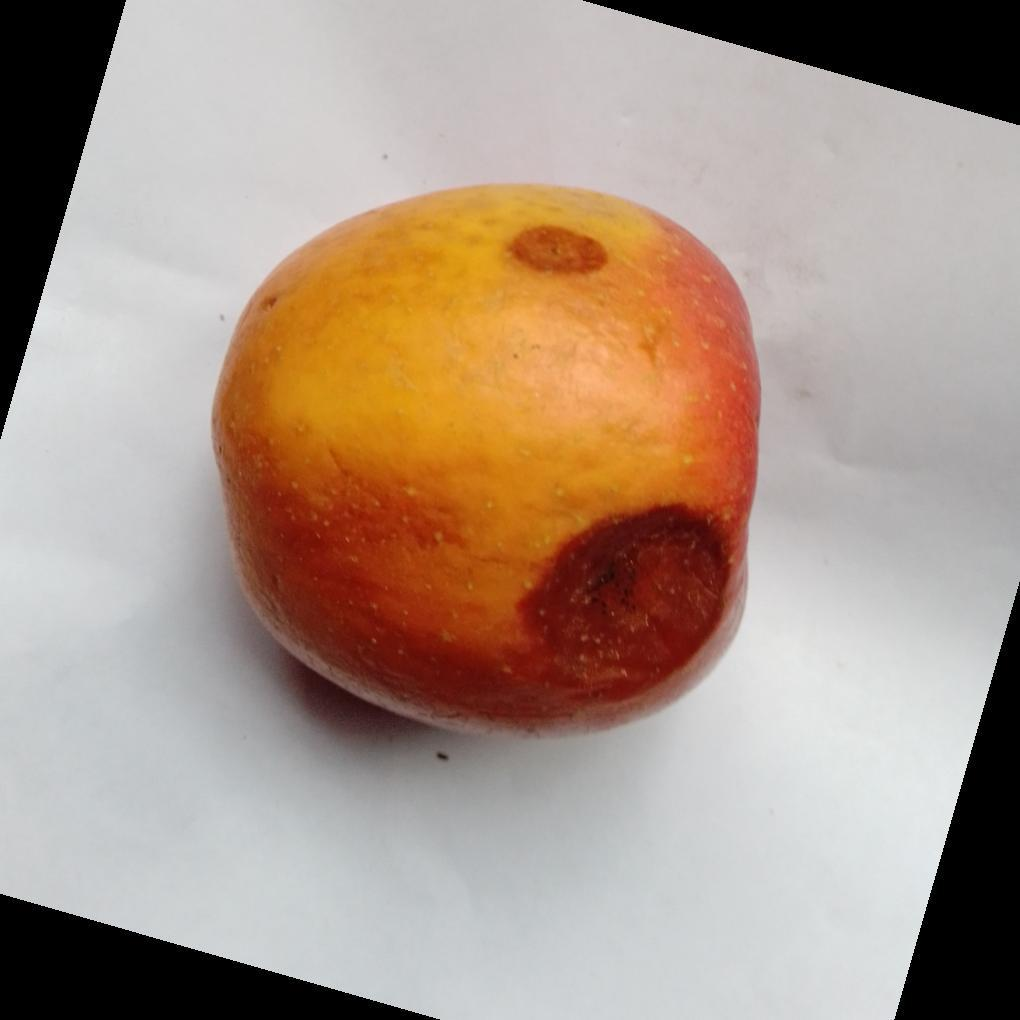FreshOrange: (209, 184, 762, 743)
